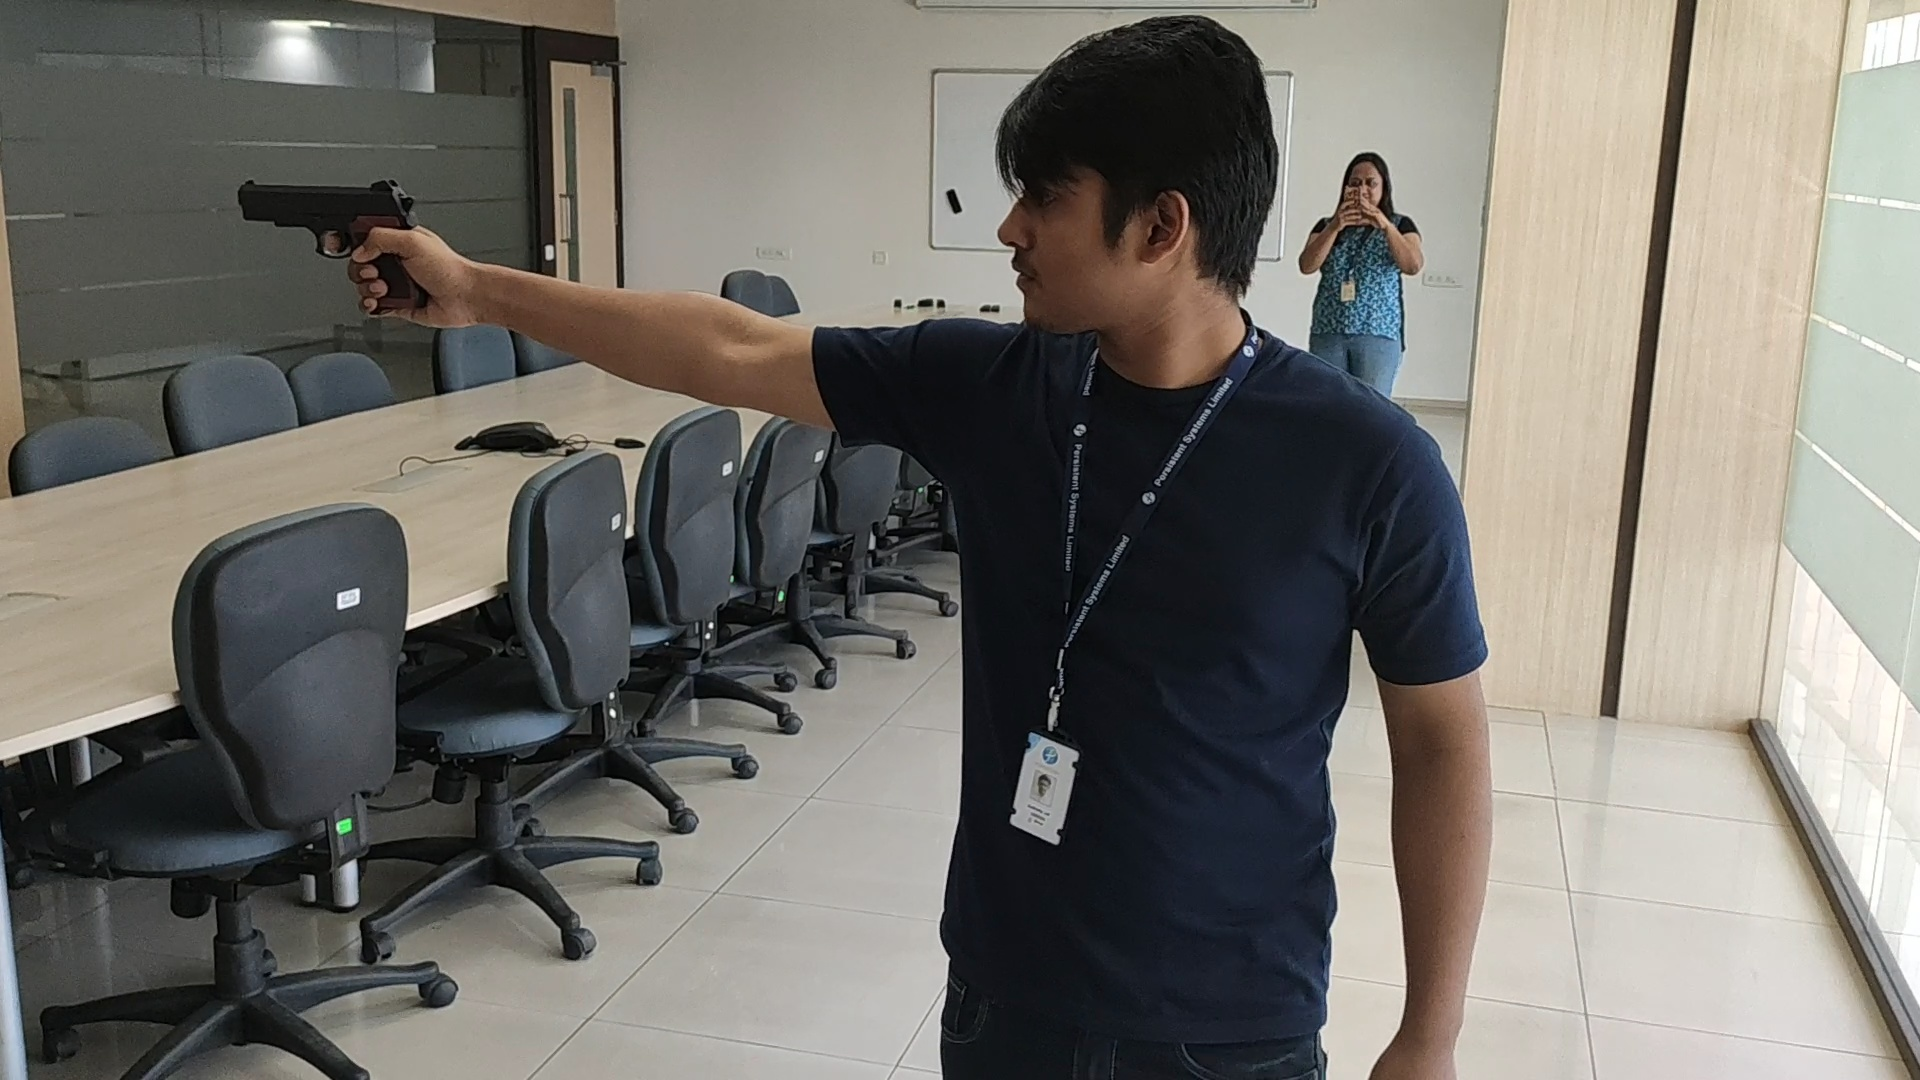gun: (233, 178, 419, 235)
